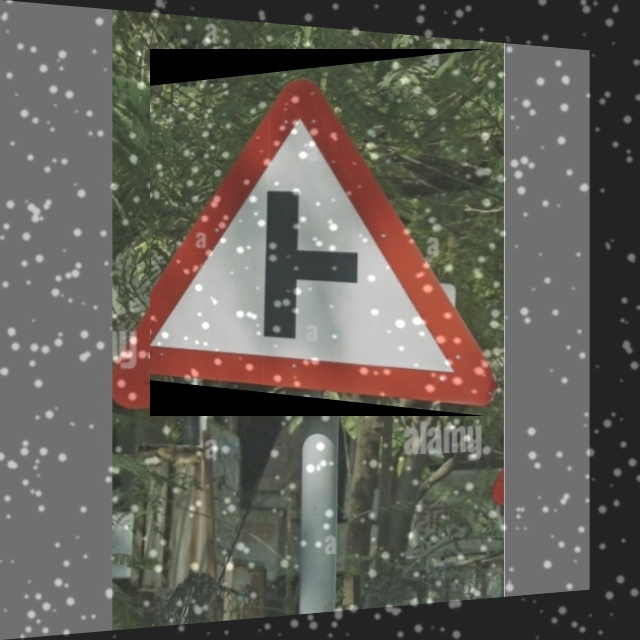Side_Road_Right: (150, 49, 486, 416)
